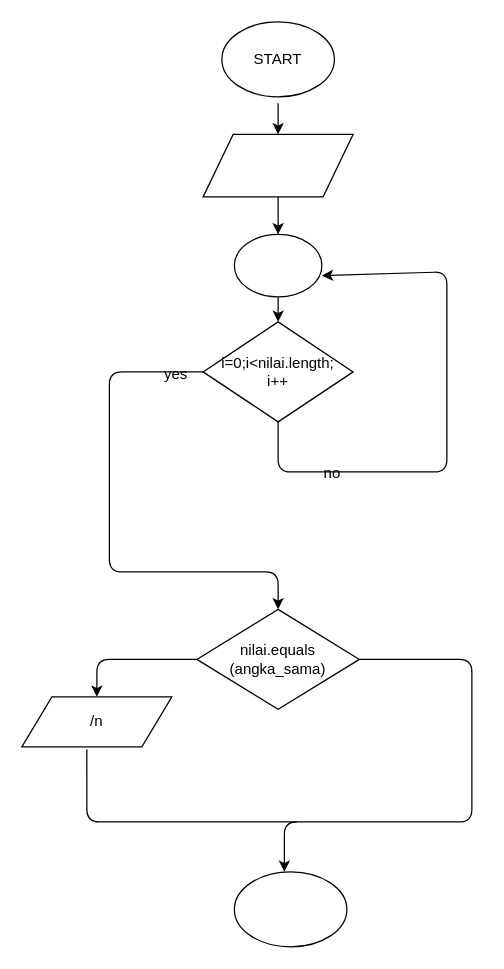
Image size: 504x969. Some labels were removed from this diagram. The shapes that lost their labels are listed below. From the top down, each one's centre as x and y in pixels, then its label:
At (277,165): "input nilai array".
At (277,265): "loop".
